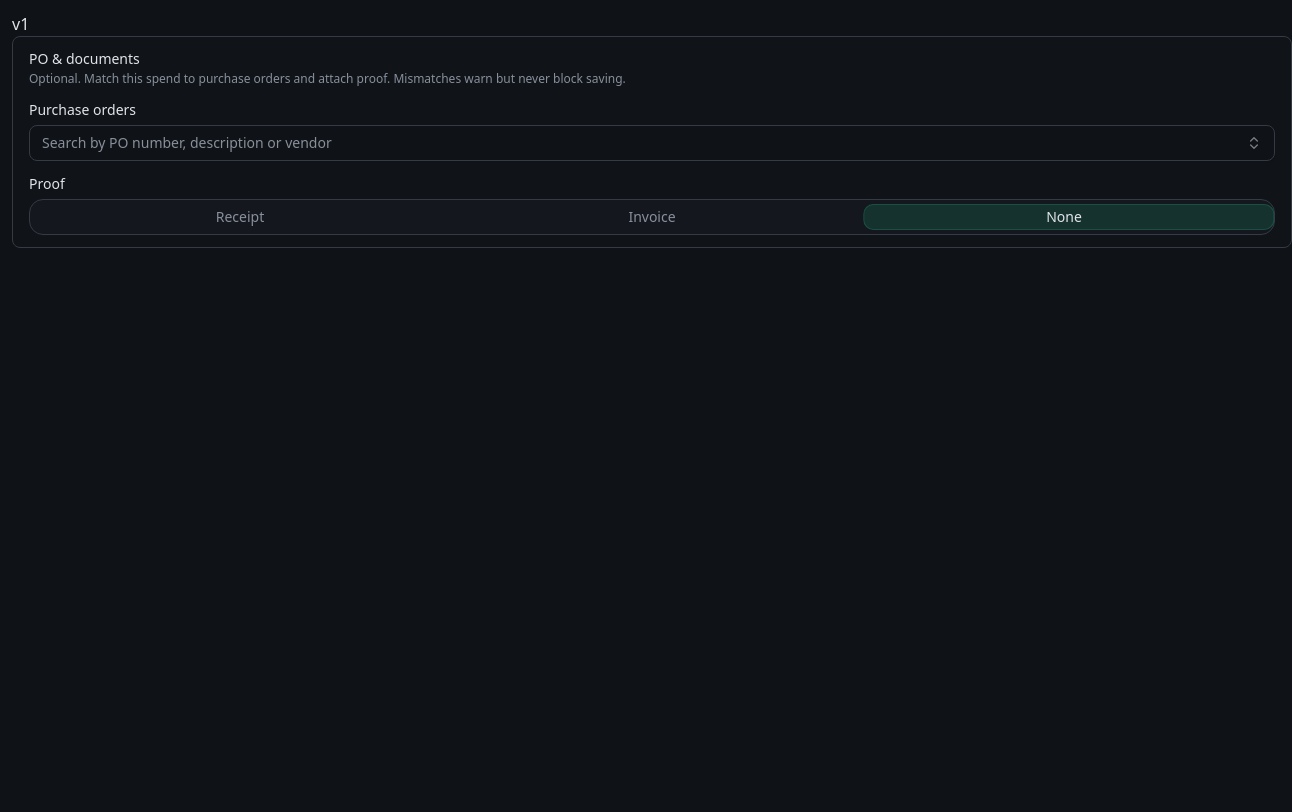
Test case: ExpenseDocumentMatch › upload invoice requires a number field and defaults to upload when the vendor has none
The image size is (1292, 812).
What coordinates should you click on to do the following:
click the tab "Invoice"
I would click on:
 (652, 217)
Its box is [446,204,858,230].
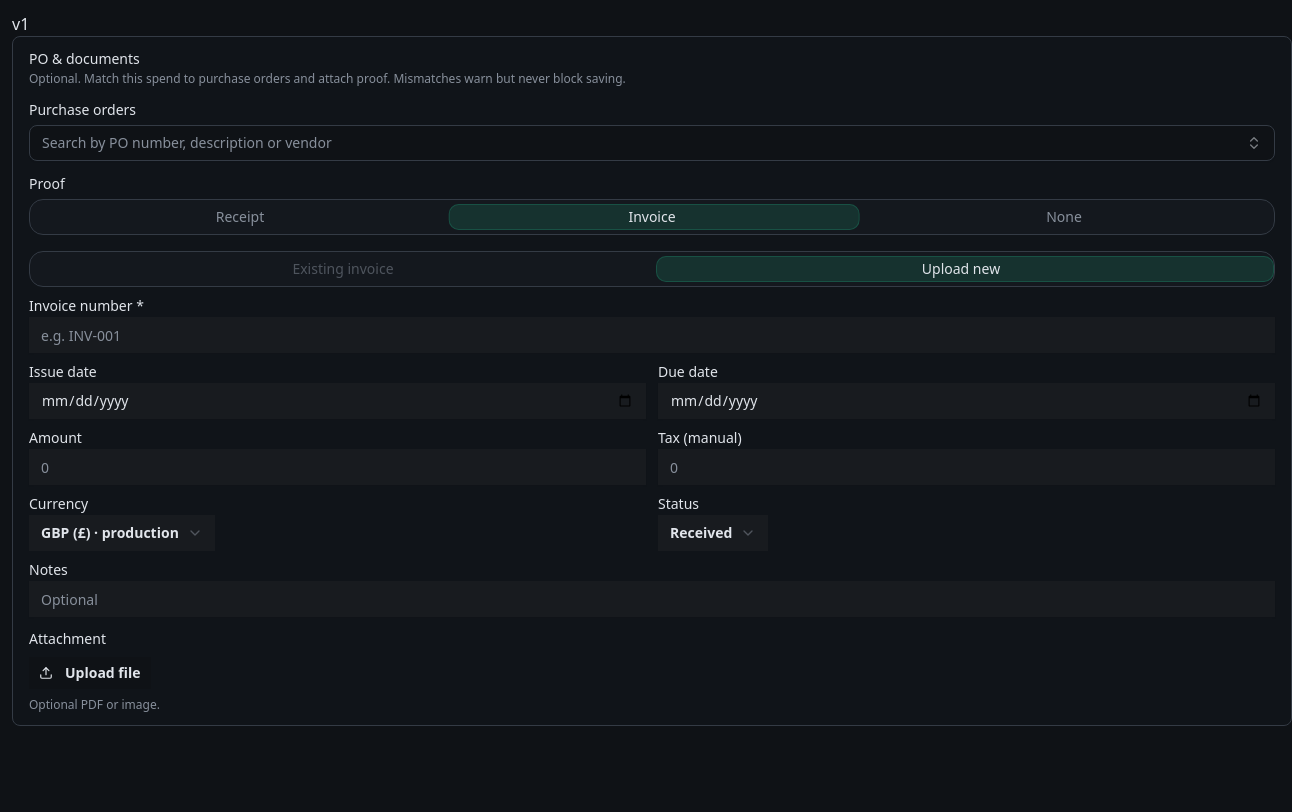
Expected: the field labelled "Invoice number *" is shown, [29,317,1275,353]
Expected: the element with test id "invoice-fields" is shown, [29,251,1275,713]
